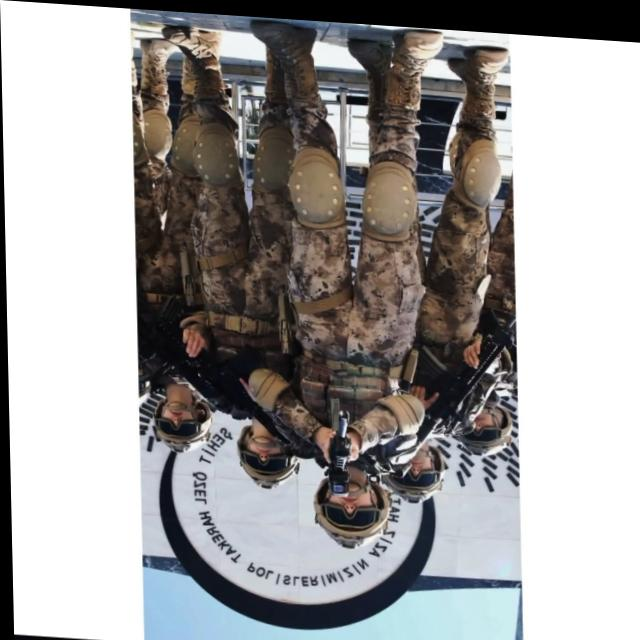poh_personel: (240, 13, 454, 549), (373, 36, 516, 500), (169, 25, 297, 490)
